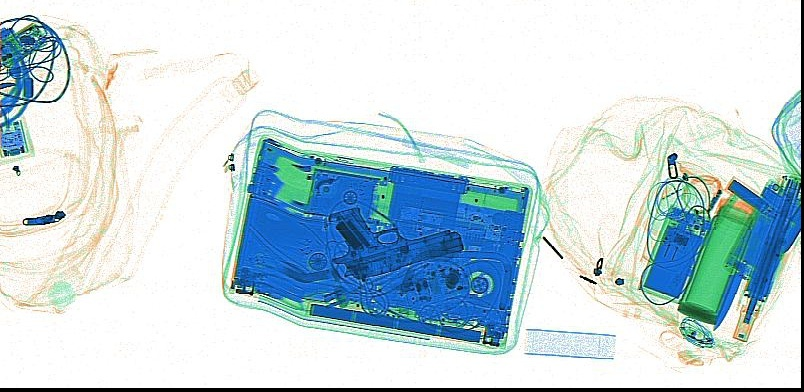knife: (712, 259, 747, 331)
